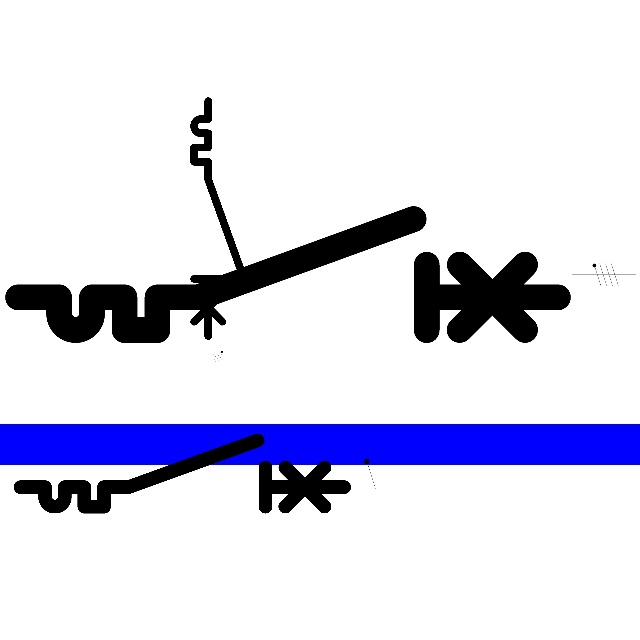interruptor_termomagnetico: (4, 205, 572, 344), (12, 432, 353, 515), (188, 95, 248, 342)
